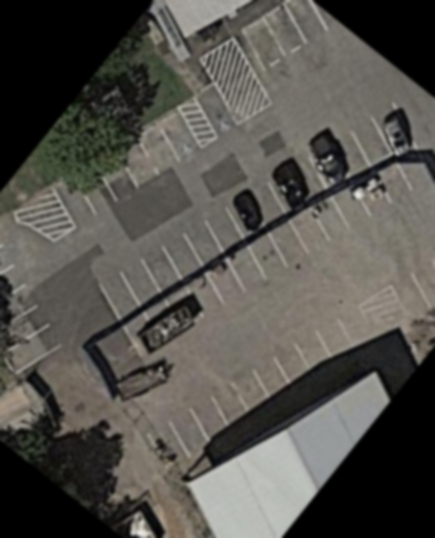parkingspot: (95, 100, 417, 325), (144, 314, 364, 477), (181, 185, 374, 321), (51, 108, 203, 232), (0, 241, 65, 377), (236, 0, 343, 79), (388, 255, 435, 327), (192, 82, 242, 142), (389, 159, 394, 162)
